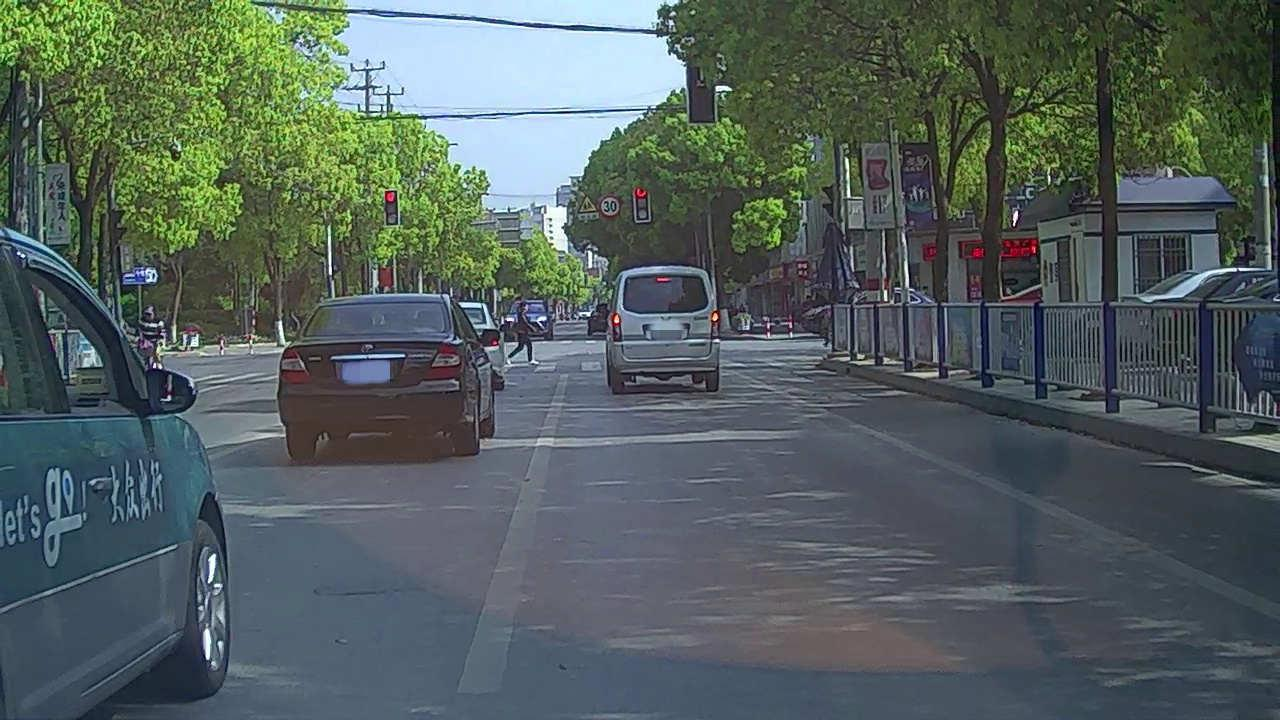traffic_light: (633, 185, 649, 221), (385, 190, 398, 226)
